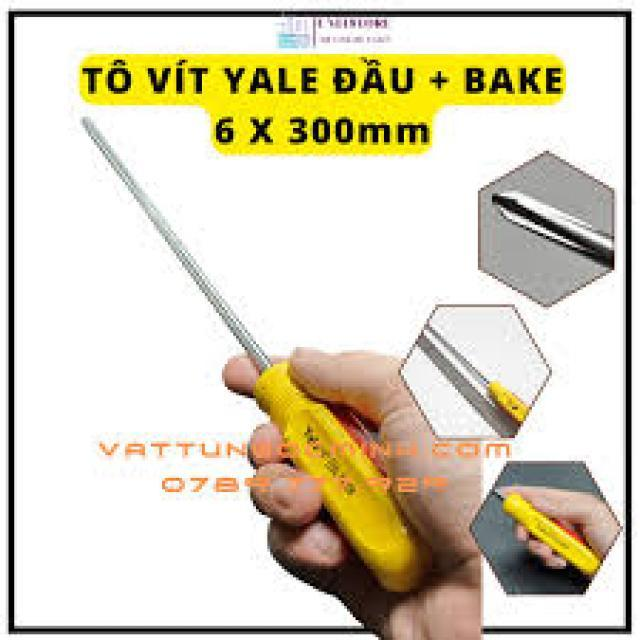screwdriver: (22, 122, 440, 498), (65, 170, 481, 540)
